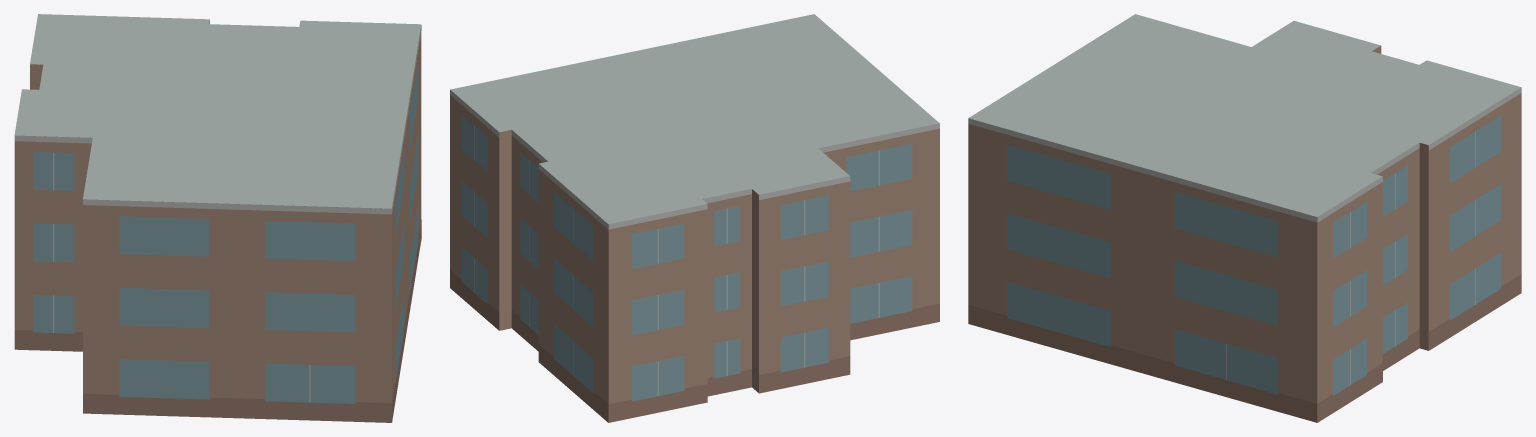
Rendered from survey-upis-32828574.glb.
The picture shows the model from 3 angles, left to right: view 1: azimuth 30°, elevation 25°; view 2: azimuth 150°, elevation 25°; view 3: azimuth 270°, elevation 25°; orthographic projection. The views are drawn at different scales.
Parts seen in each view (by area): view 1: survey-upis-32828574.tmp; view 2: survey-upis-32828574.tmp; view 3: survey-upis-32828574.tmp.
Part boxes in pixels (x1,y1,x2,y2): survey-upis-32828574.tmp: (14,14,421,422); survey-upis-32828574.tmp: (450,14,939,422); survey-upis-32828574.tmp: (968,14,1521,422).
Bounding box in the file's own units: 19.39 × 9.15 × 22.31.
